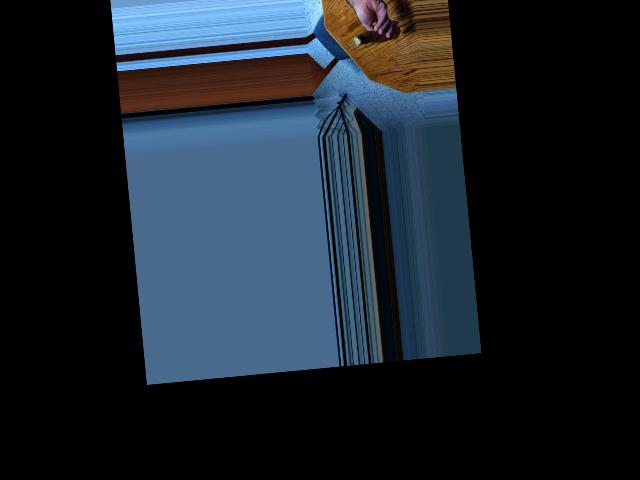sweet_potato: (351, 22, 400, 47)
